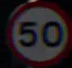Speed limit: (6, 4, 64, 57)
